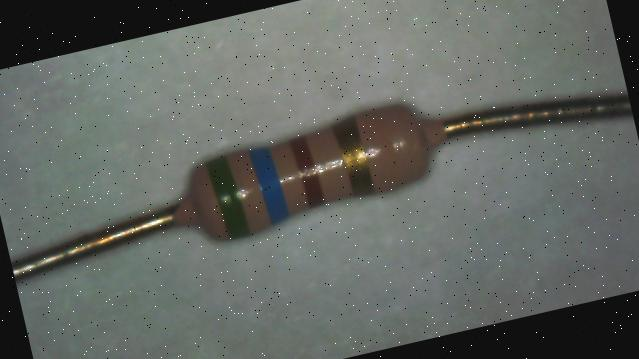blue: (250, 144, 288, 221)
brown: (290, 134, 324, 204)
gold: (334, 118, 374, 194)
green: (206, 154, 249, 238)
resistor: (157, 79, 469, 258)
